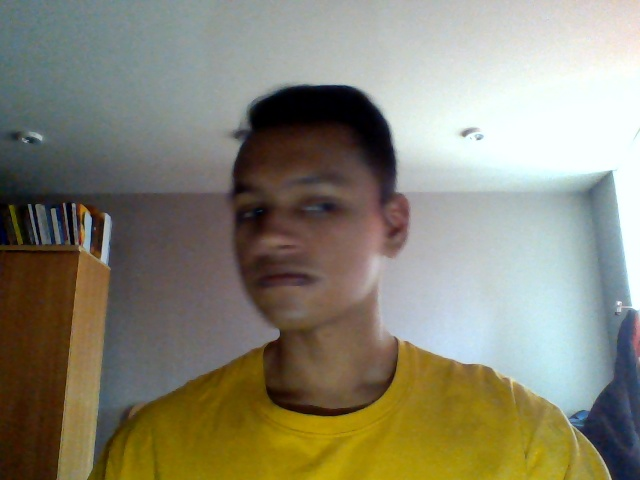no_mask: (219, 227, 398, 330)
